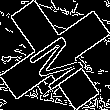M_NE: (21, 22, 89, 88)
